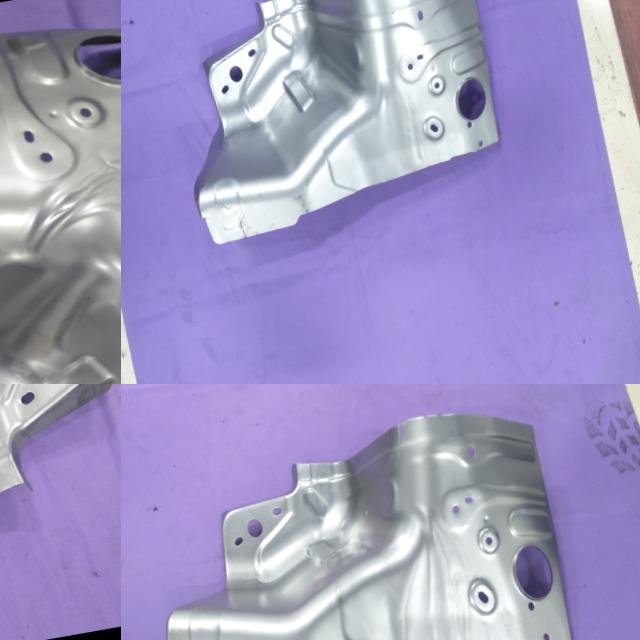Defect: (386, 420, 414, 466)
Healthy: (0, 384, 121, 583)
rust: (222, 202, 260, 244), (416, 410, 445, 424)
